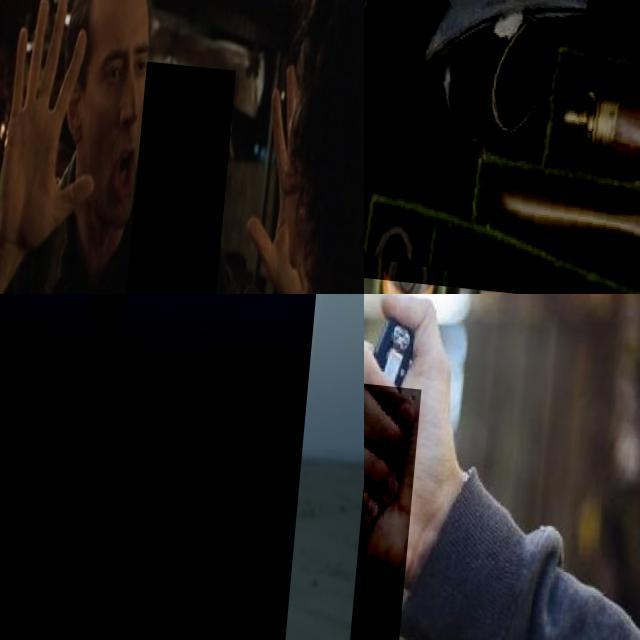-: (364, 369, 452, 640)
gun-knife-thesis - v11 Yolov5 augmented: (0, 294, 321, 640), (364, 0, 640, 294), (130, 56, 239, 294)
